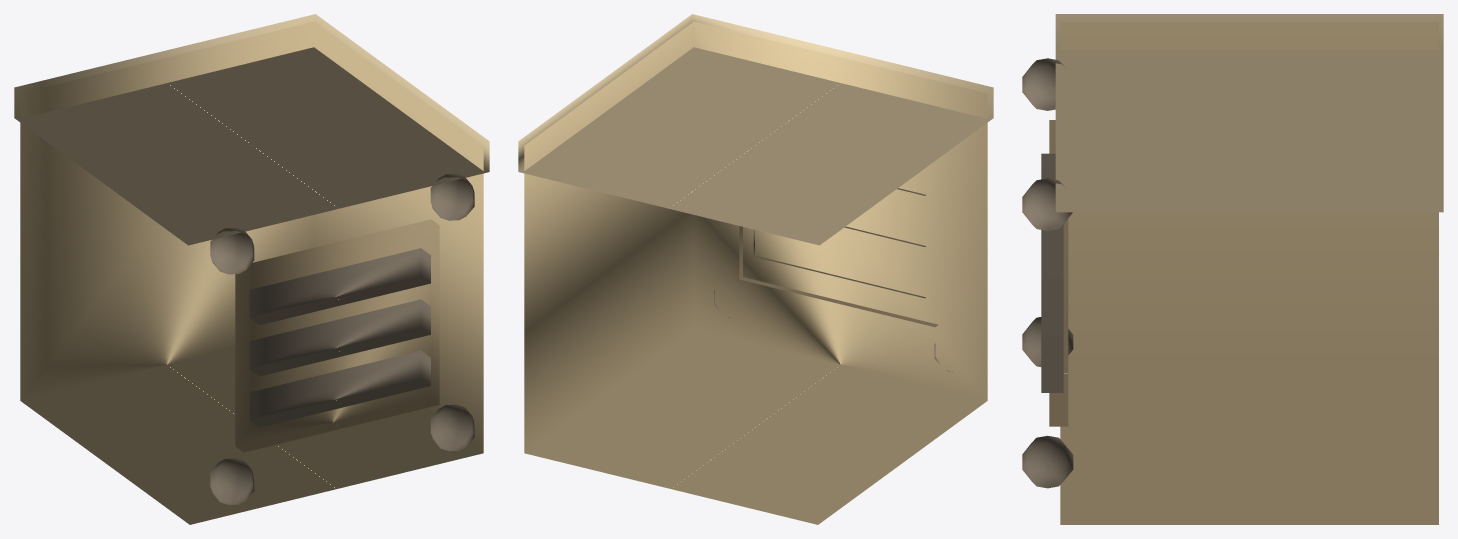
File: block_vent.glb
3 views of the same model, side by side, from view 1: azimuth 30°, elevation 25°; view 2: azimuth 150°, elevation 25°; view 3: azimuth 270°, elevation 25° (orthographic). The views are drawn at different scales.
Bounding box in the file's own units: 24.6 × 24.4 × 26.72.
